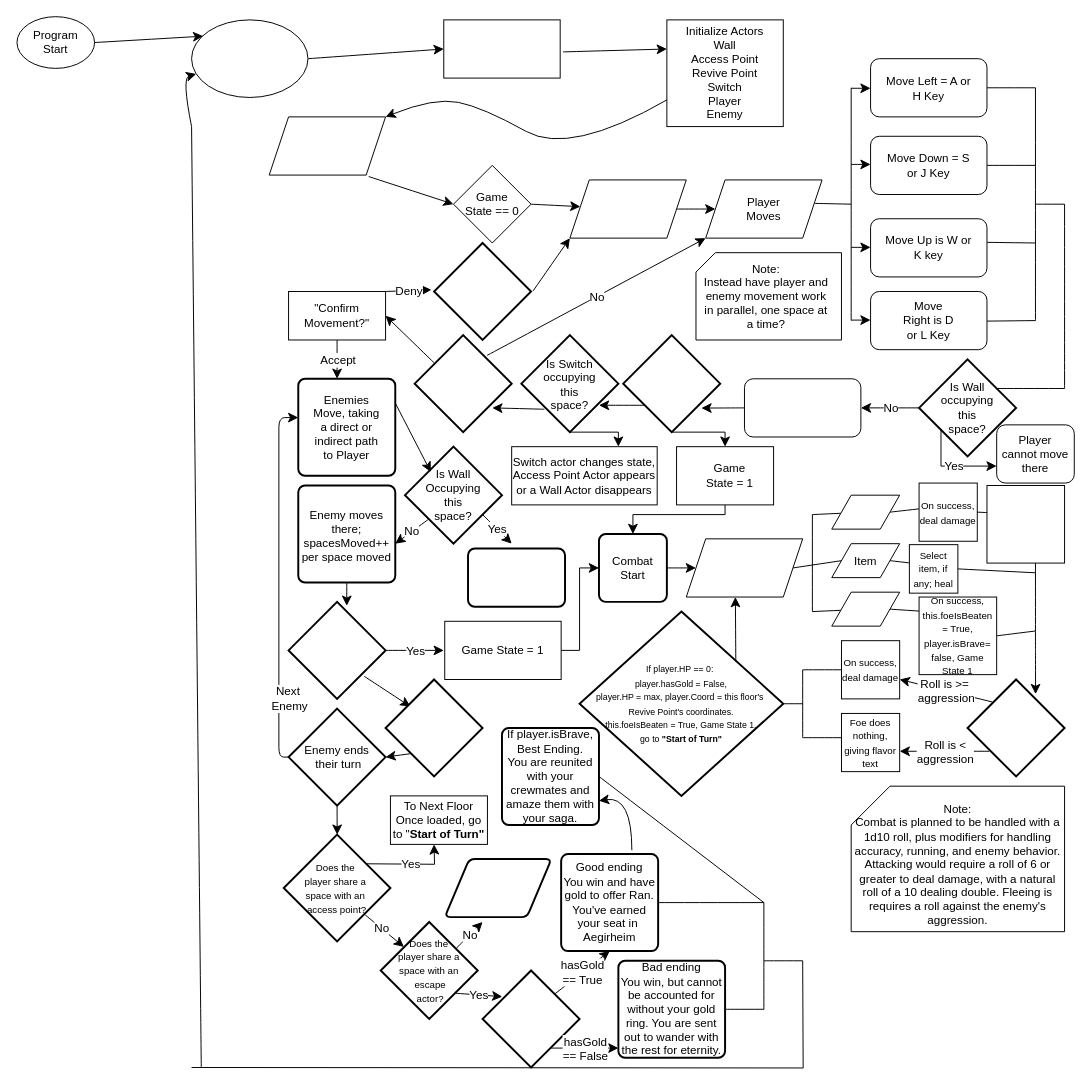
This 1091x1086 diagram has some shape labels left out. Here are the shapes that lost their labels. From the top down, the centre of each, then its label:
the point at 249,58: Game Start
the point at 501,48: Initialize World Game State = 0
the point at 327,145: Print First Map
the point at 627,208: Start of Turn
the point at 482,291: Reset player
the point at 462,383: Is spacesMoved == playerMove?
the point at 671,383: Is Enemy occupying this space?
the point at 802,407: Player moves there; spacesMoved++
the point at 865,511: Attack
the point at 1025,524: If foeHP == 0, battle won, this.foeIsBeaten = 1 Game State 1
the point at 516,577: Enemy cannot move there (Ghosts???)
the point at 744,567: Player Action
the point at 865,608: Run
the point at 336,649: Is Player occupying this space?
the point at 433,727: If spacesMoved == foeMove
the point at 1015,727: Enemy Turn
the point at 497,887: Go To " Start of Turn "
the point at 530,1018: Game State 2
